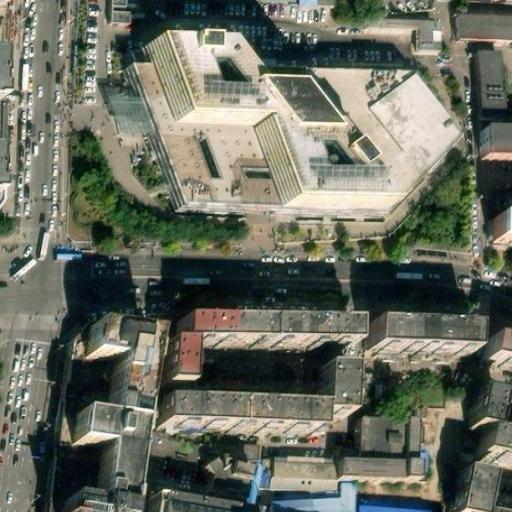building: (141, 62, 379, 231), (226, 80, 457, 231), (130, 78, 273, 224), (46, 323, 146, 512), (68, 336, 150, 512), (68, 132, 128, 237), (156, 400, 318, 435), (174, 324, 349, 350), (366, 326, 468, 361), (356, 425, 417, 474), (365, 15, 441, 52), (270, 454, 338, 488), (204, 467, 253, 512), (477, 51, 504, 129), (336, 471, 425, 492), (145, 495, 242, 512), (447, 472, 485, 512), (318, 369, 346, 420), (0, 87, 14, 188), (460, 13, 512, 40), (473, 429, 512, 463), (465, 391, 495, 431), (476, 129, 512, 161), (160, 346, 185, 390), (488, 203, 512, 244), (267, 498, 336, 512), (482, 333, 512, 363), (356, 500, 434, 511), (335, 488, 355, 512)
